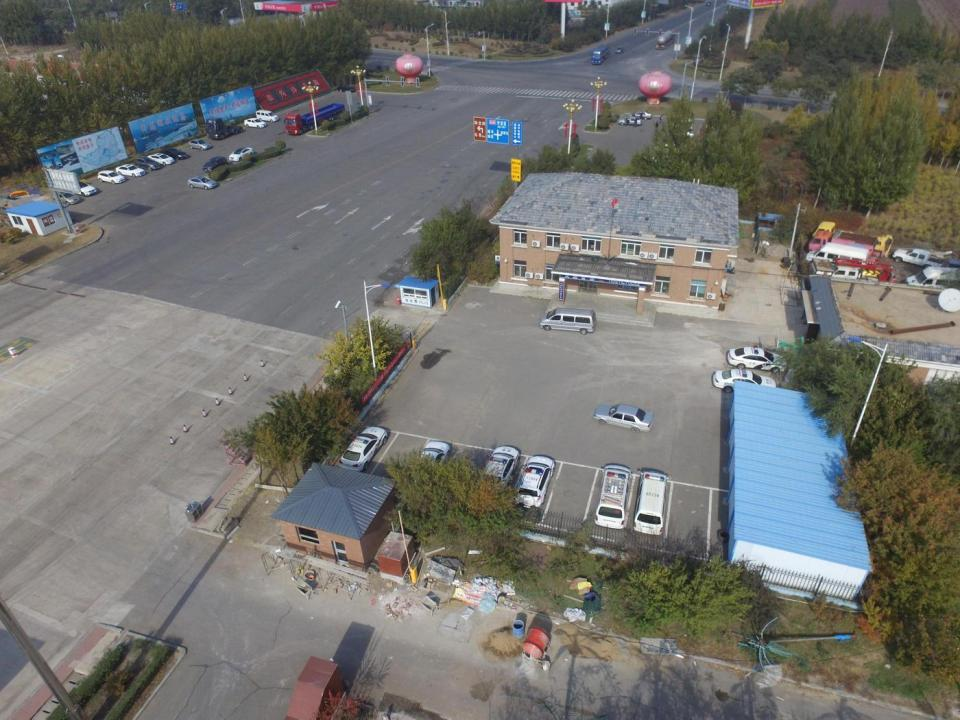car: (632, 467, 669, 538), (483, 444, 520, 513), (595, 464, 631, 531), (340, 428, 391, 472), (518, 454, 554, 516), (590, 403, 654, 433), (711, 370, 779, 395), (418, 442, 451, 492), (726, 348, 791, 370), (187, 174, 218, 190), (115, 164, 146, 178), (229, 146, 254, 163), (97, 170, 125, 185), (74, 180, 97, 198), (202, 155, 226, 171), (137, 156, 159, 172), (55, 190, 79, 204), (147, 154, 174, 166), (160, 148, 188, 159), (618, 115, 642, 126), (189, 138, 210, 150), (244, 118, 268, 128), (628, 111, 651, 119), (336, 85, 357, 93), (616, 47, 624, 55), (707, 2, 710, 6)
truck: (812, 222, 893, 266), (811, 229, 883, 276), (823, 258, 898, 291), (889, 246, 960, 279), (285, 104, 344, 135), (204, 117, 243, 139)
van: (805, 243, 868, 269), (540, 308, 596, 335), (906, 264, 960, 288), (592, 44, 610, 66), (255, 110, 278, 122)
